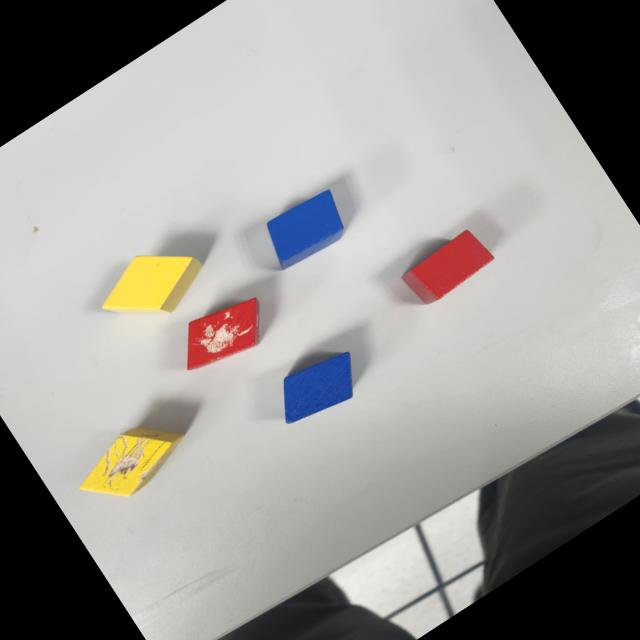blue: (264, 339, 372, 436), (254, 182, 356, 276)
broken: (65, 406, 194, 518), (164, 283, 280, 386)
red: (397, 226, 497, 312)
yellow: (86, 226, 215, 342)
